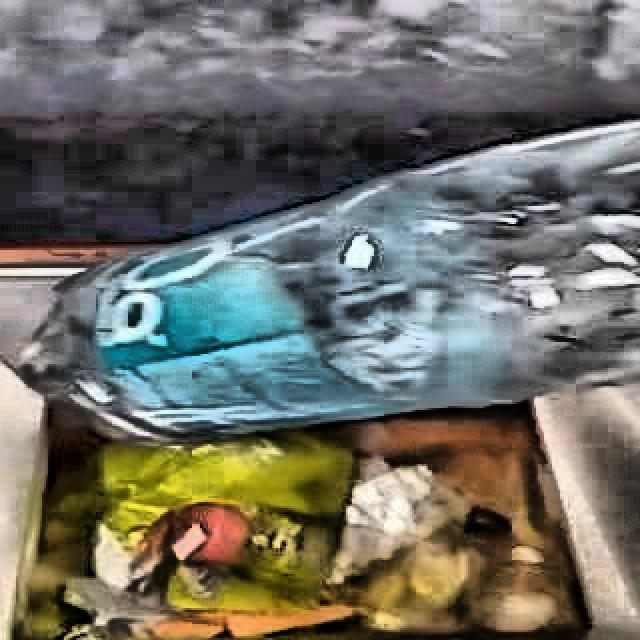plastic: (24, 122, 640, 442)
